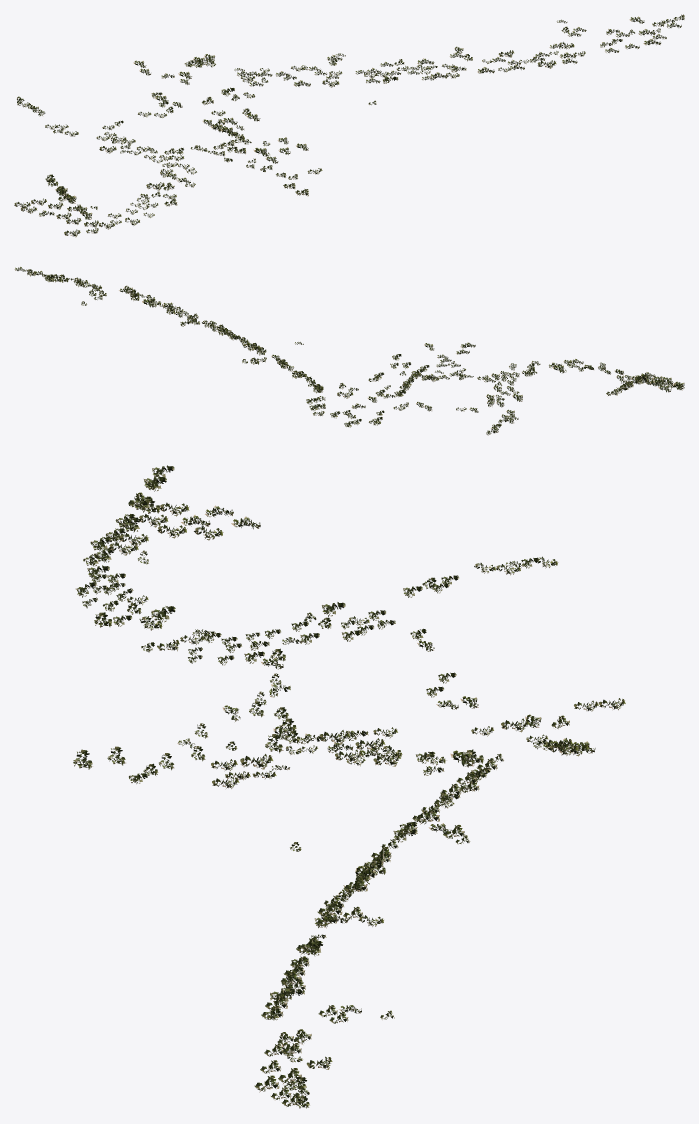
File: Arbustos01.glb
3 views of the same model, one above another, from view 1: azimuth 30°, elevation 25°; view 2: azimuth 150°, elevation 25°; view 3: azimuth 270°, elevation 25° (orthographic). The views are drawn at different scales.
Parts seen in each view (by area): view 1: Arbustos01Web; view 2: Arbustos01Web; view 3: Arbustos01Web.
Boxes of the visible parts, <box> form: Arbustos01Web: <box>14,14,684,237</box>; Arbustos01Web: <box>14,266,684,435</box>; Arbustos01Web: <box>73,465,625,1108</box>.
Size of the model in its own units: 275 by 15.18 by 104.
1 material, 1 textured.
